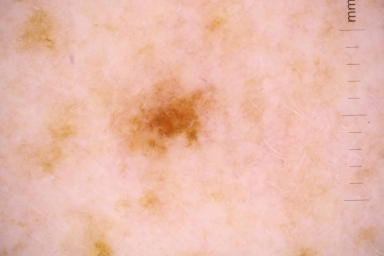nevus: (135, 86, 215, 152)
